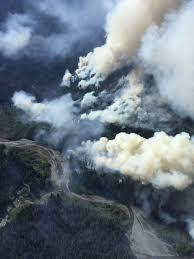yanwu: (67, 1, 192, 129), (68, 123, 194, 195)
